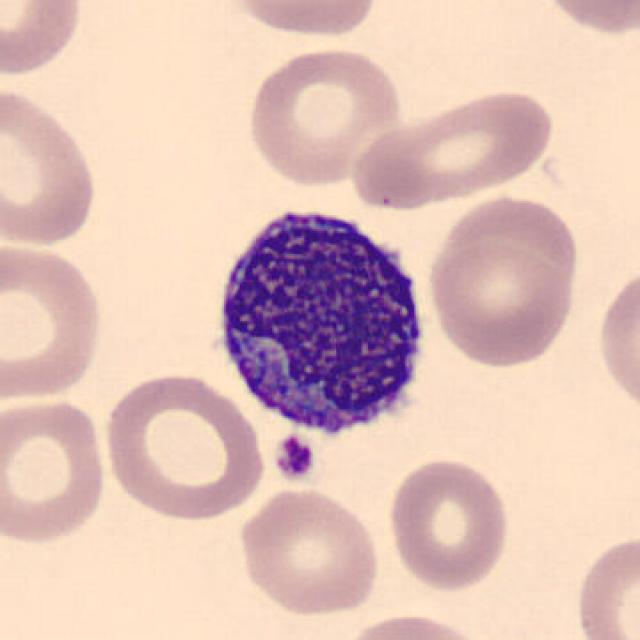Monocyte: (217, 199, 445, 439)
Platelets: (272, 434, 318, 485)
RBC: (423, 189, 583, 372), (345, 84, 558, 210), (98, 368, 268, 524), (242, 42, 405, 189), (235, 485, 384, 619), (382, 453, 514, 594), (0, 238, 107, 406), (0, 81, 103, 252), (0, 393, 110, 548), (571, 529, 638, 640), (594, 259, 638, 423), (0, 0, 87, 81), (220, 0, 384, 41), (334, 610, 494, 640), (532, 0, 638, 39)
